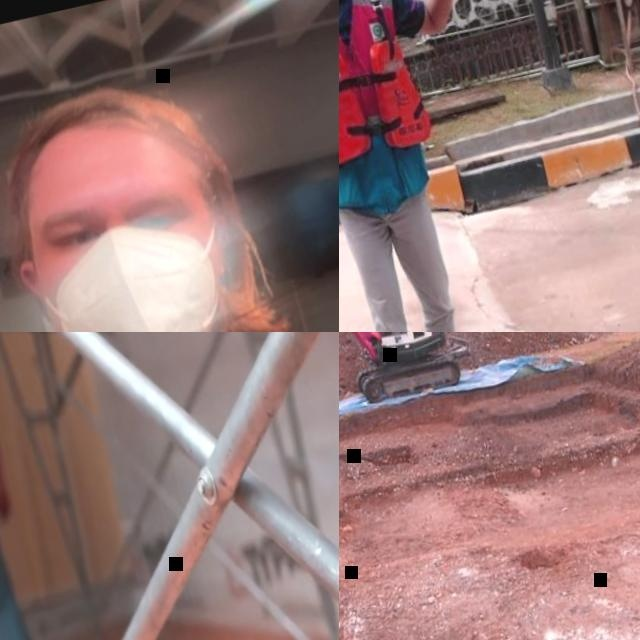Mask: (37, 210, 235, 332)
NO-Hardhat: (10, 76, 198, 202)
Person: (0, 28, 339, 332), (339, 0, 555, 332), (0, 332, 65, 640)
Safety Vest: (339, 0, 437, 174)
machinery: (339, 332, 478, 502)
